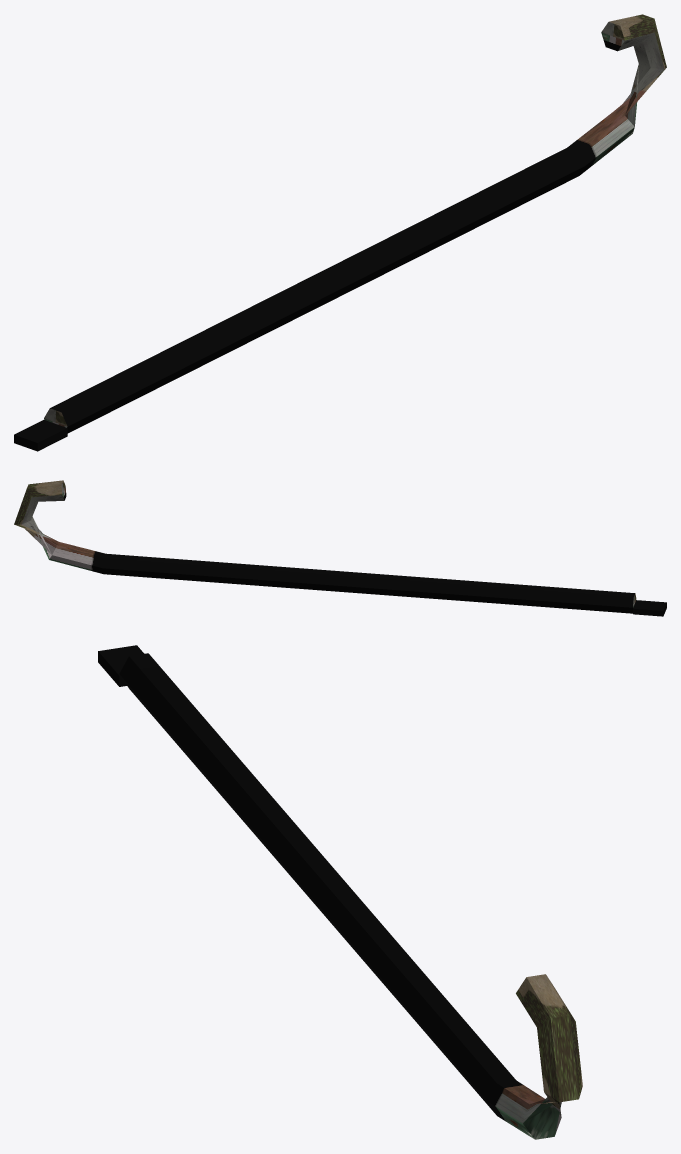
Rendered from crowbar.fbx.
3 views of the same model, one above another, from view 1: azimuth 30°, elevation 25°; view 2: azimuth 150°, elevation 25°; view 3: azimuth 270°, elevation 25° (orthographic). The views are drawn at different scales.
Visible parts, largest first — view 1: crowbar; view 2: crowbar; view 3: crowbar.
Boxes of the visible parts, x1,y1,x2,y2 form: crowbar: [14, 14, 666, 451]; crowbar: [14, 480, 666, 616]; crowbar: [98, 645, 582, 1139].
Bounding box in the file's own units: 0.6049 × 0.0922 × 0.2343.
